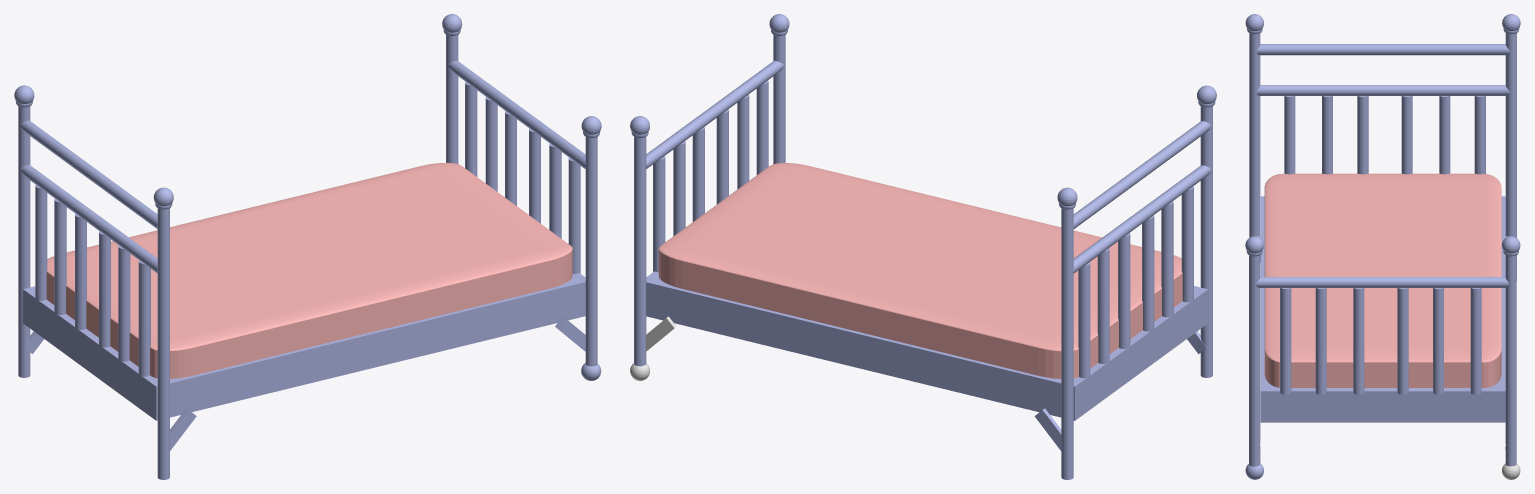
The model's file is bed.fbx.
3 views of the same model, side by side, from view 1: azimuth 30°, elevation 25°; view 2: azimuth 150°, elevation 25°; view 3: azimuth 270°, elevation 25° (orthographic). The views are drawn at different scales.
Parts seen in each view (by area): view 1: Cube.038, Cube.035, Cylinder, Cylinder.011, Cylinder.001, Cylinder.003, Cylinder.002, Cylinder.012, Cylinder.010, Cylinder.004, Cylinder.005, Cylinder.008 (+9 smaller); view 2: Cube.038, Cube.035, Cylinder.001, Cylinder, Cylinder.010, Cylinder.003, Cylinder.002, Cylinder.012, Cylinder.011, Cylinder.006, Cylinder.005, Cylinder.007 (+9 smaller); view 3: Cube.038, Cube.035, Cylinder.003, Cylinder.002, Cylinder.012, Cylinder.010, Cylinder.011, Cylinder.001, Cylinder, Cylinder.016, Cylinder.018, Cylinder.019 (+9 smaller).
Boxes of the visible parts, <box> form: Cube.038: <box>46,162,572,378</box>; Cube.035: <box>23,273,585,420</box>; Cylinder: <box>157,208,169,479</box>; Cylinder.011: <box>585,137,597,366</box>; Cylinder.001: <box>18,106,30,377</box>; Cylinder.003: <box>19,120,157,228</box>; Cylinder.002: <box>19,165,157,273</box>; Cylinder.012: <box>448,60,585,169</box>; Cylinder.010: <box>446,35,458,163</box>; Cylinder.004: <box>138,260,150,378</box>; Cylinder.005: <box>118,245,130,363</box>; Cylinder.008: <box>54,199,66,316</box>; Cube.038: <box>658,163,1182,378</box>; Cube.035: <box>646,271,1207,420</box>; Cylinder.001: <box>1061,208,1073,479</box>; Cylinder: <box>1200,106,1212,377</box>; Cylinder.010: <box>634,137,646,366</box>; Cylinder.003: <box>1073,121,1210,228</box>; Cylinder.002: <box>1073,165,1210,273</box>; Cylinder.012: <box>646,60,784,168</box>; Cylinder.011: <box>773,35,785,164</box>; Cylinder.006: <box>1142,215,1154,333</box>; Cylinder.005: <box>1161,201,1173,319</box>; Cylinder.007: <box>1118,233,1130,350</box>; Cube.038: <box>1264,173,1501,387</box>; Cube.035: <box>1260,196,1505,422</box>; Cylinder.003: <box>1257,44,1510,55</box>; Cylinder.002: <box>1257,85,1510,95</box>; Cylinder.012: <box>1255,277,1508,287</box>; Cylinder.010: <box>1505,255,1516,466</box>; Cylinder.011: <box>1249,255,1260,466</box>; Cylinder.001: <box>1505,33,1516,280</box>; Cylinder: <box>1249,33,1260,237</box>; Cylinder.016: <box>1397,288,1408,394</box>; Cylinder.018: <box>1315,288,1326,394</box>; Cylinder.019: <box>1280,288,1291,394</box>.
Bounding box in the file's own units: 611 × 388 × 356.
